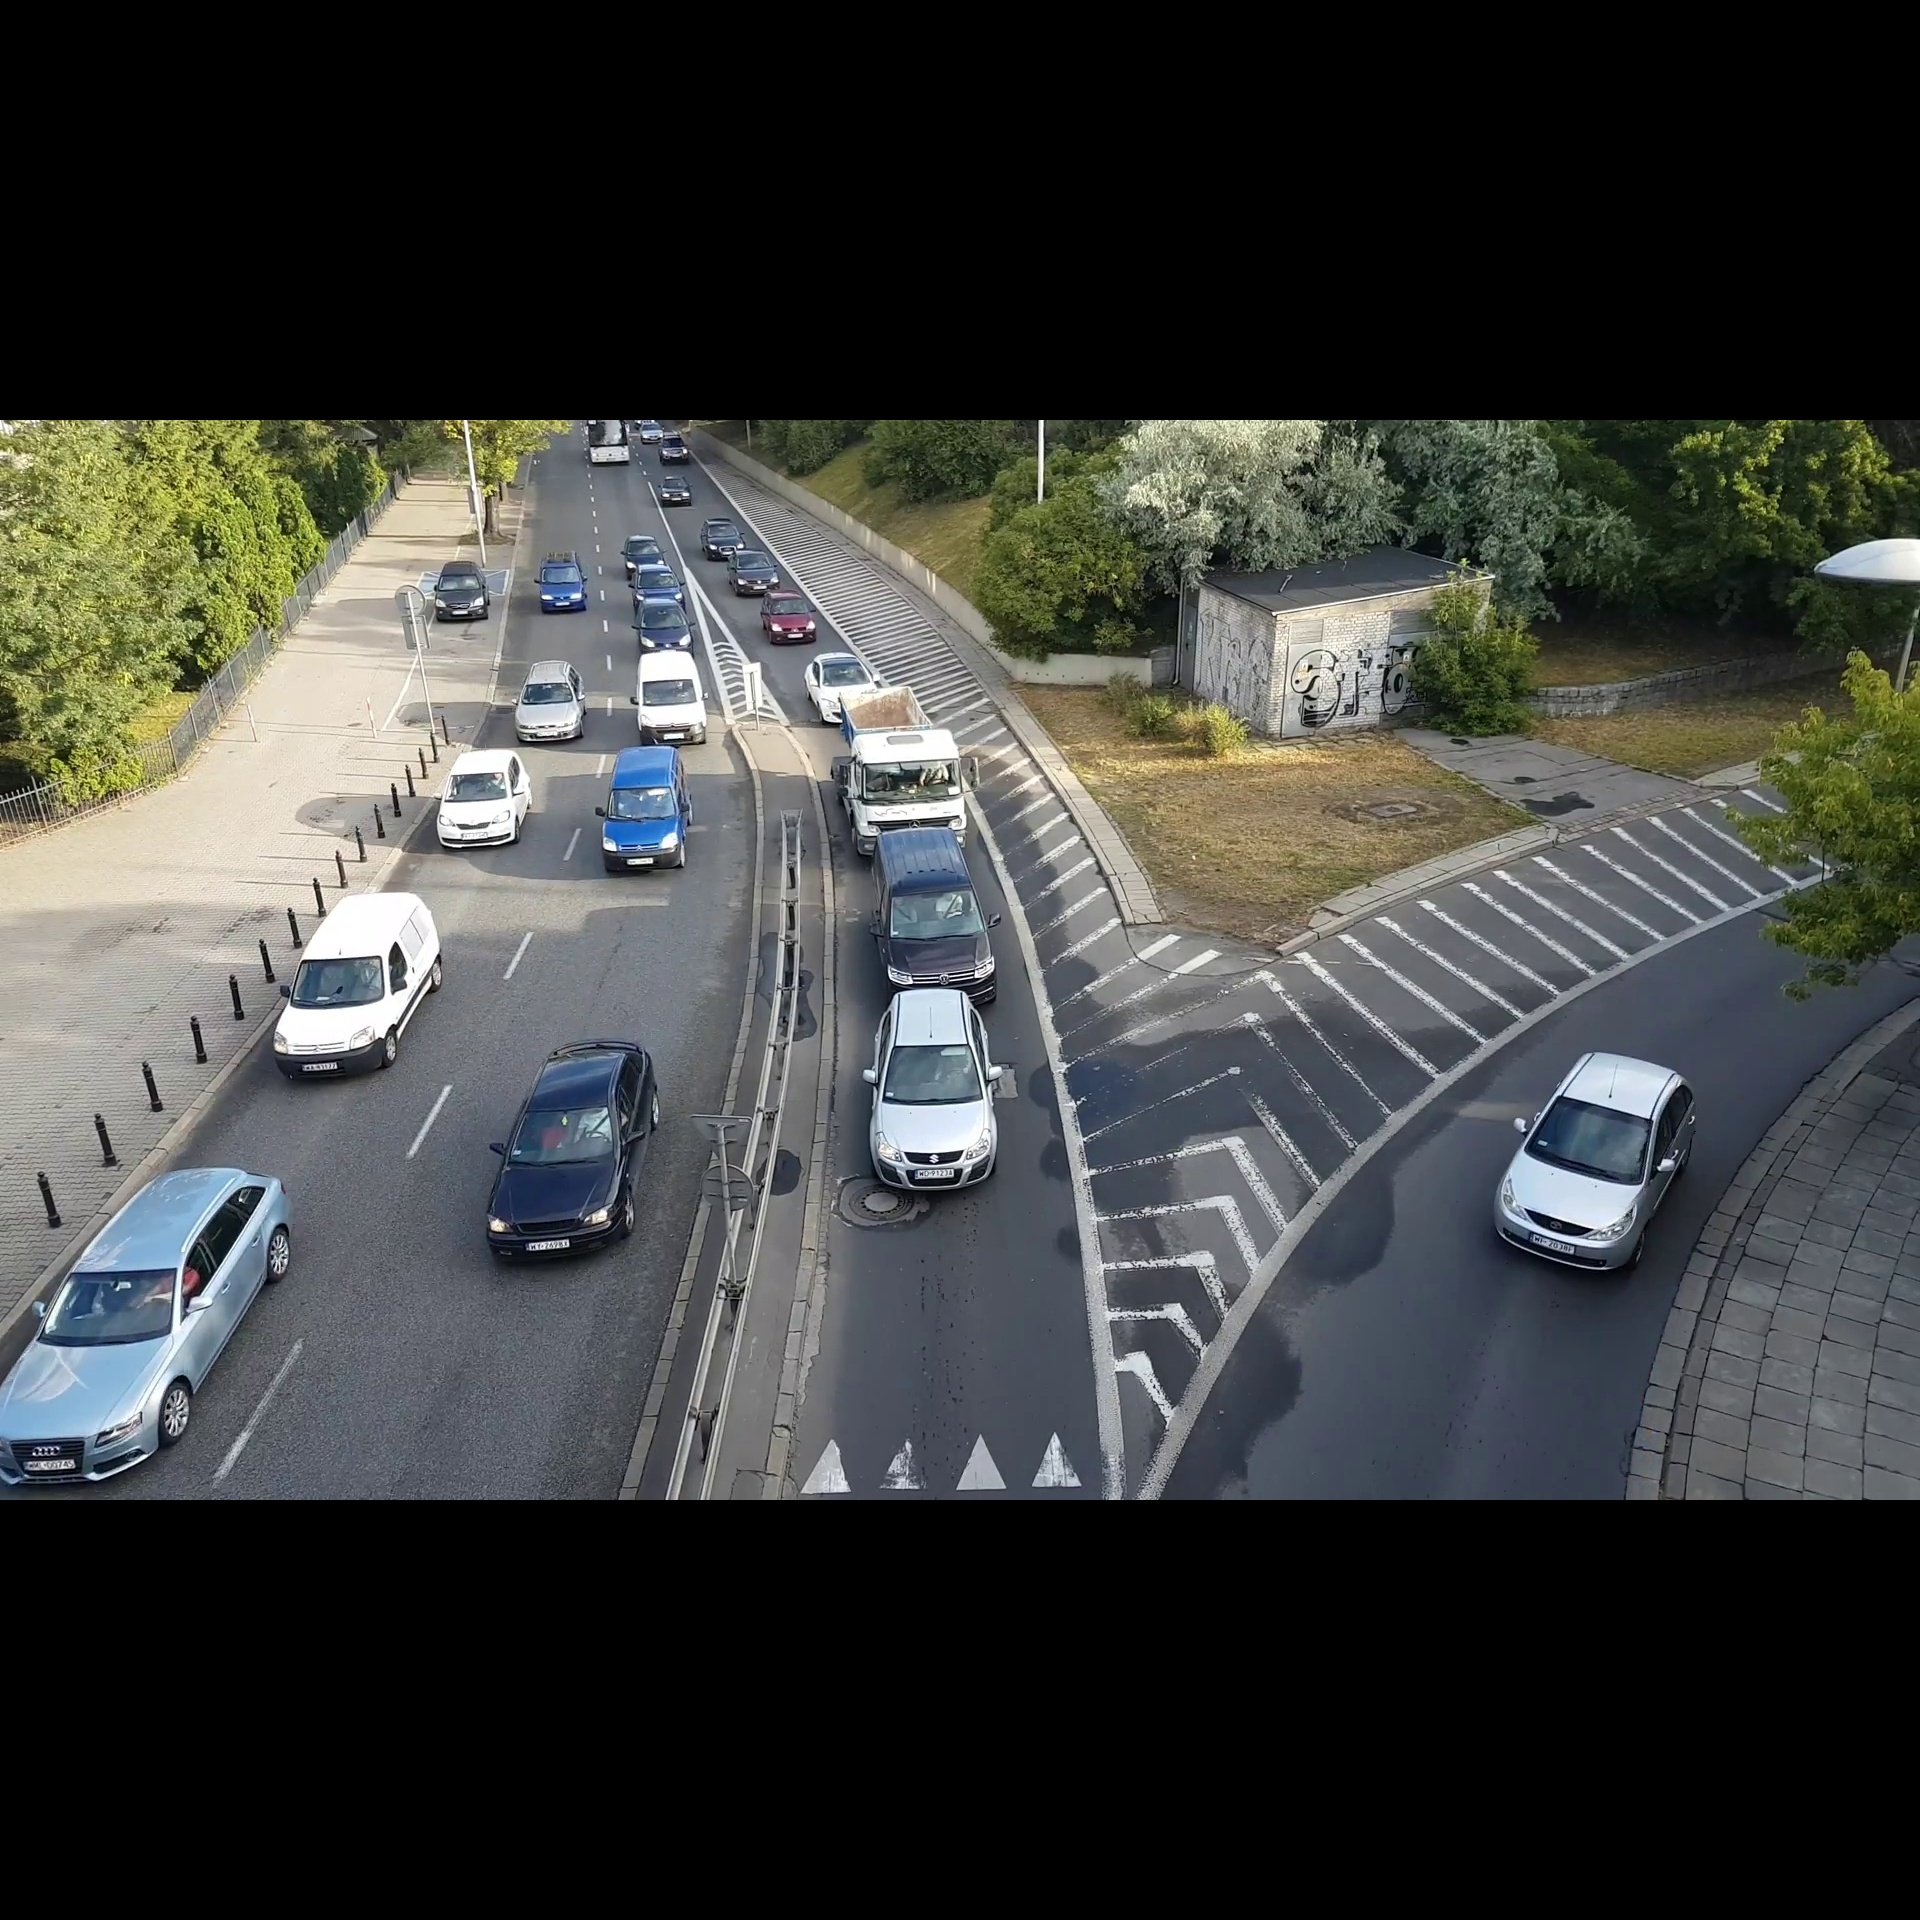vehicle: (2, 1159, 301, 1500), (1472, 1036, 1705, 1289), (478, 1030, 670, 1271), (265, 883, 452, 1097), (853, 986, 1009, 1204), (863, 825, 1000, 992), (825, 682, 972, 835), (589, 742, 698, 883), (427, 742, 536, 858), (624, 647, 710, 747), (506, 654, 593, 751), (802, 645, 881, 723), (431, 552, 496, 633), (531, 545, 587, 619), (758, 584, 819, 649), (629, 594, 695, 652), (724, 549, 782, 598), (629, 563, 687, 607), (585, 420, 631, 466), (696, 515, 747, 549), (621, 531, 666, 564), (658, 473, 693, 506), (658, 434, 689, 464), (638, 420, 665, 443)
